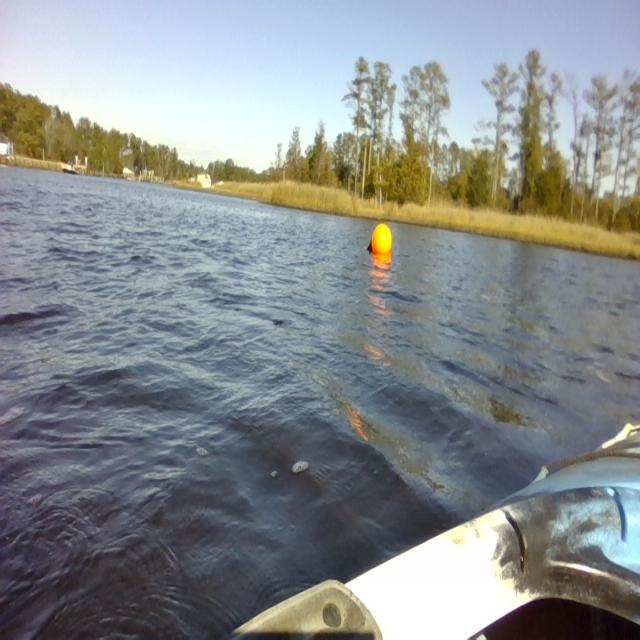Buoy: (363, 217, 396, 264)
